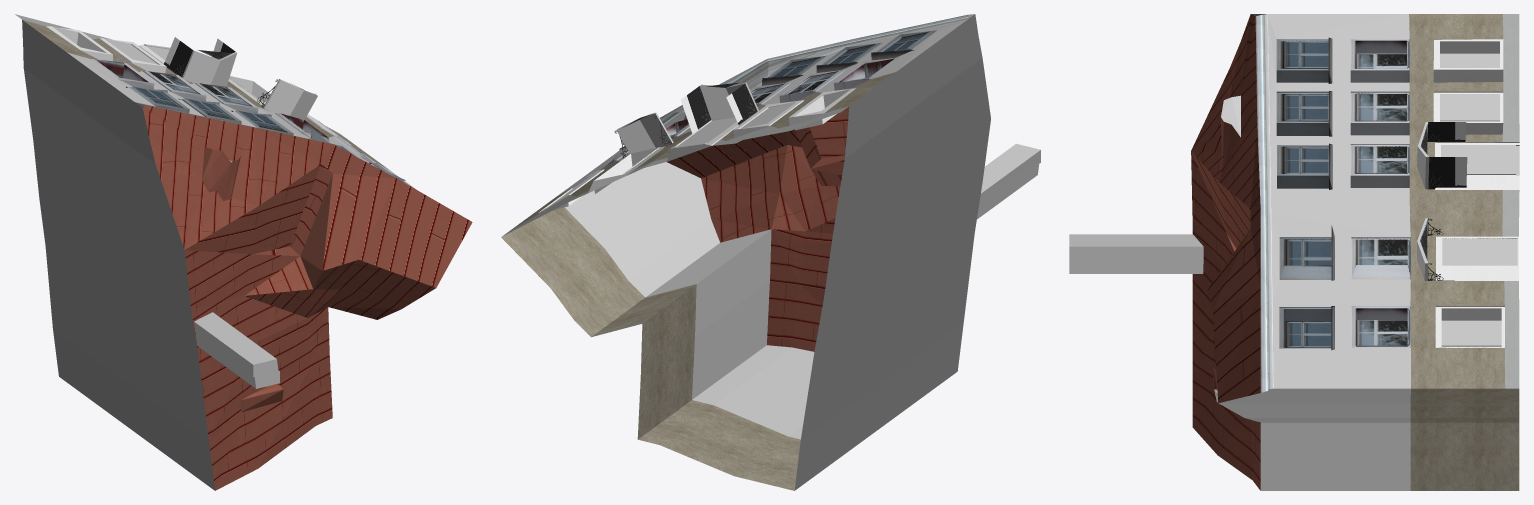
Rendered from Nunne_9-origo.obj.
The picture shows the model from 3 angles, left to right: view 1: azimuth 30°, elevation 25°; view 2: azimuth 150°, elevation 25°; view 3: azimuth 270°, elevation 25°; orthographic projection. The views are drawn at different scales.
Visible parts, largest first — view 1: Nunne_9; view 2: Nunne_9; view 3: Nunne_9.
Boxes of the visible parts, x1,y1,x2,y2 form: Nunne_9: (15, 14, 472, 490); Nunne_9: (501, 14, 1040, 490); Nunne_9: (1069, 14, 1519, 490).
Size of the model in its own units: 14.06 by 15 by 15.67.
